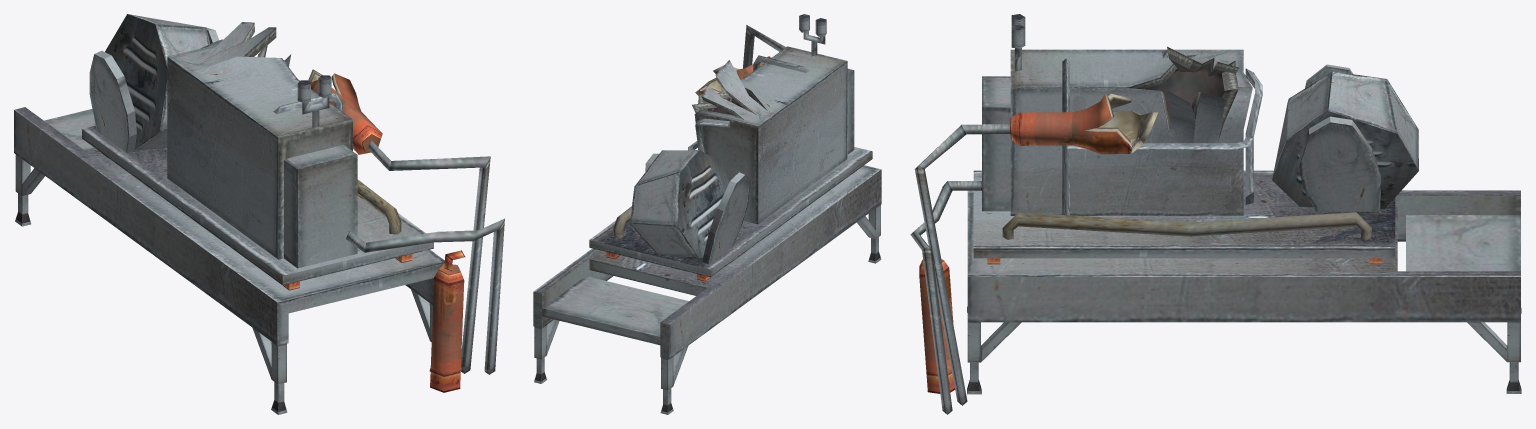
File: Air_vent_system1.fbx
3 renders of one model, left to right at view 1: azimuth 30°, elevation 25°; view 2: azimuth 150°, elevation 25°; view 3: azimuth 270°, elevation 25°, orthographic. The views are drawn at different scales.
Parts seen in each view (by area): view 1: Air_vent_system1; view 2: Air_vent_system1; view 3: Air_vent_system1.
Part boxes in pixels (<box>): Air_vent_system1: <box>14,14,504,414</box>; Air_vent_system1: <box>533,14,881,414</box>; Air_vent_system1: <box>910,14,1521,414</box>.
Size of the model in its own units: 222 by 305 by 533.
